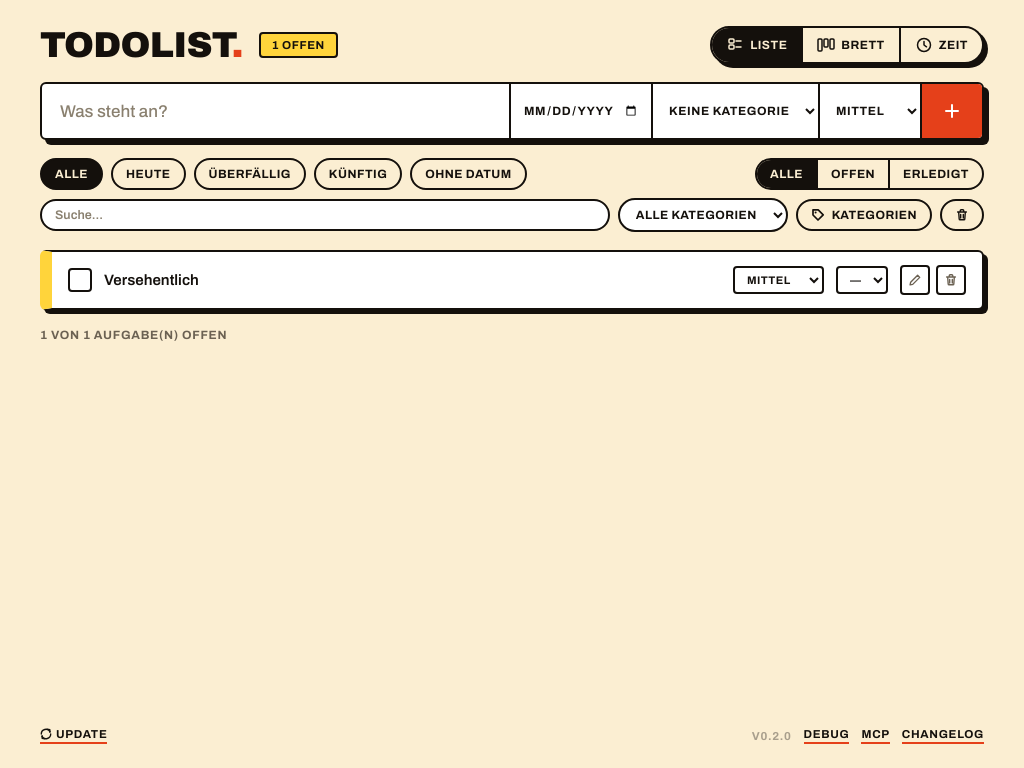
die Rückgängig-Leiste › bietet nach dem Löschen an, die Aufgabe zurückzuholen
Check: the text "Versehentlich" is shown, box [104, 272, 199, 288]
Click the button named "Löschen". click: (951, 280)
box: [936, 265, 966, 295]
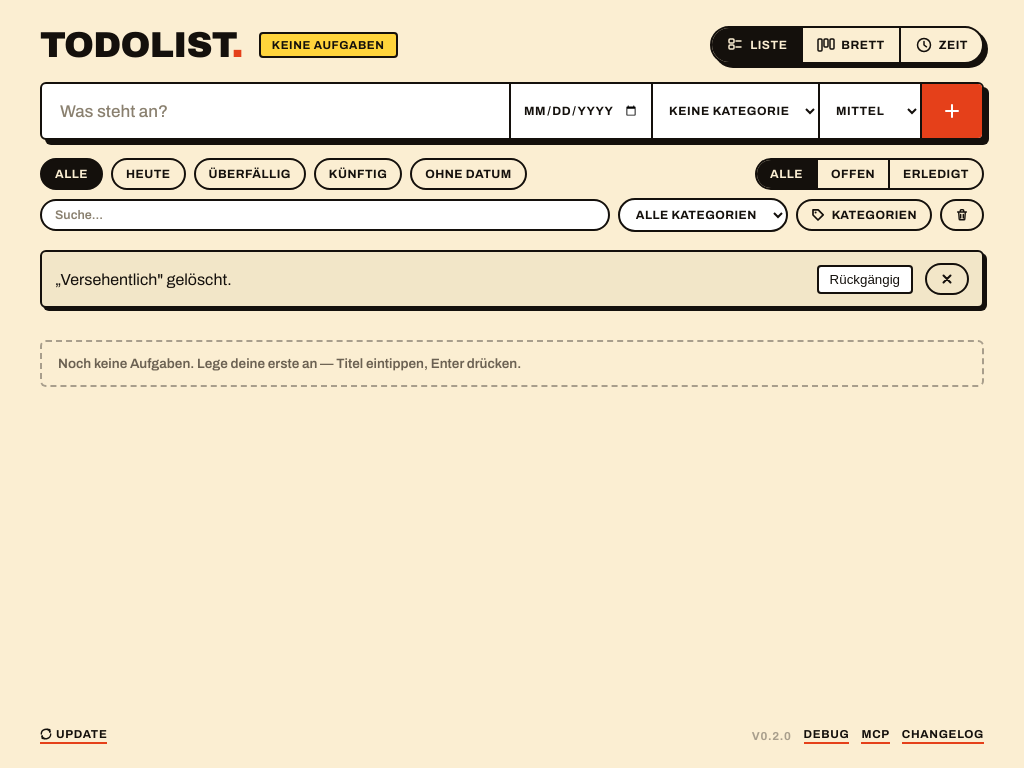
Check: the text "„Versehentlich\" gelöscht." is shown, box [55, 270, 232, 288]
Click the button "Rückgängig". click: (865, 279)
box: [817, 264, 913, 294]
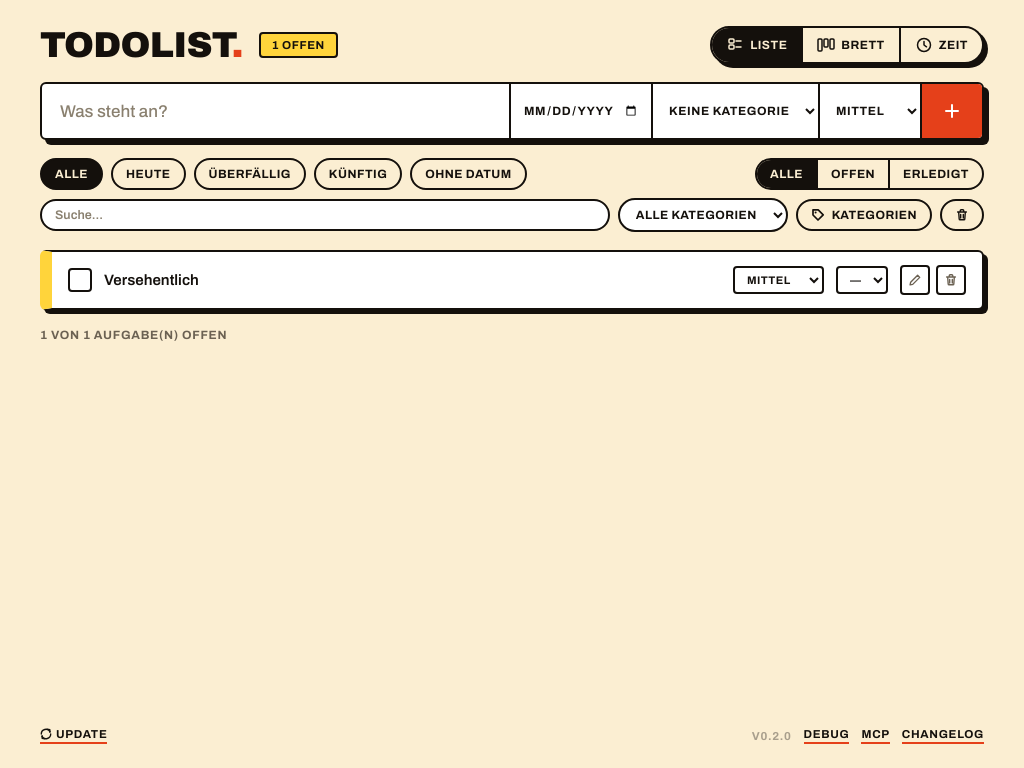
Check: the button "Rückgängig" is gone
